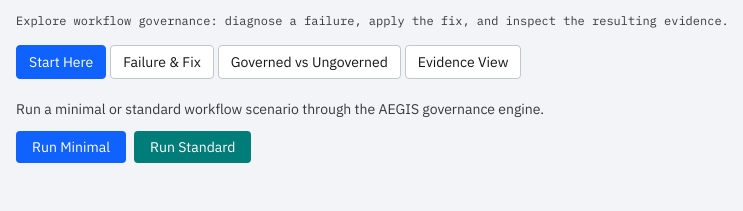
Test case: Lab11WorkflowLab › shows guidance when doctor has no prior failure to diagnose
This screenshot has width=743, height=211.
Click the button "Failure & Fix".
click(162, 62)  # box [110,45,214,79]
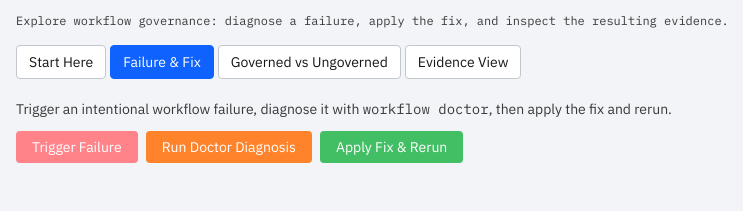
Click the button "Run Doctor Diagnosis".
click(229, 147)  # box [146,131,312,163]
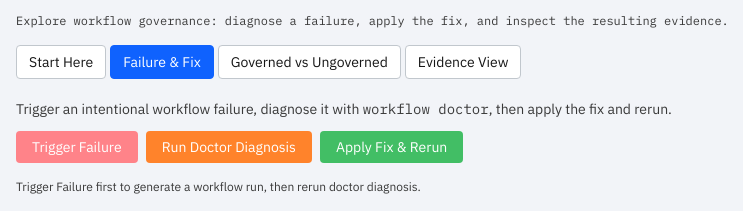
Expected: the text "Trigger Failure first to generate a workflow run" is shown, [16,179,421,194]
